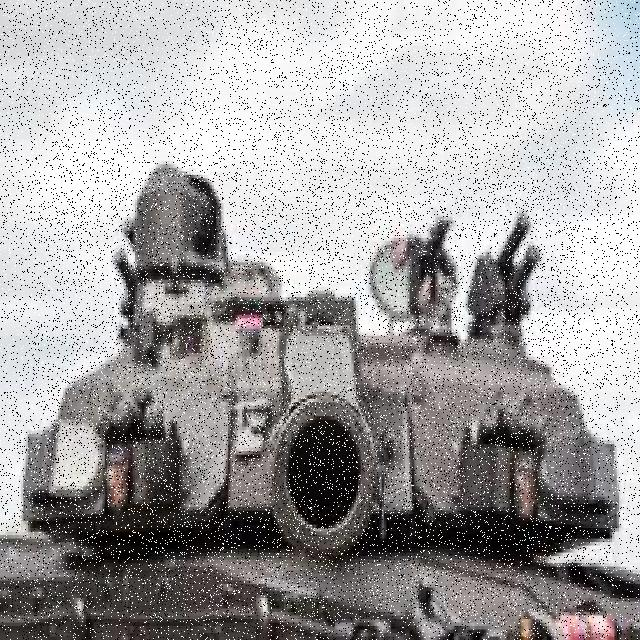MIL_MBT: (34, 159, 585, 617)
